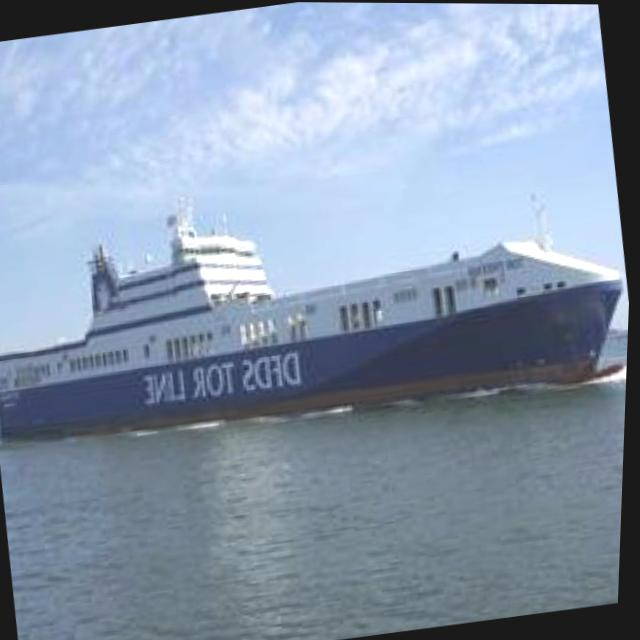ship2: (0, 186, 627, 447)
